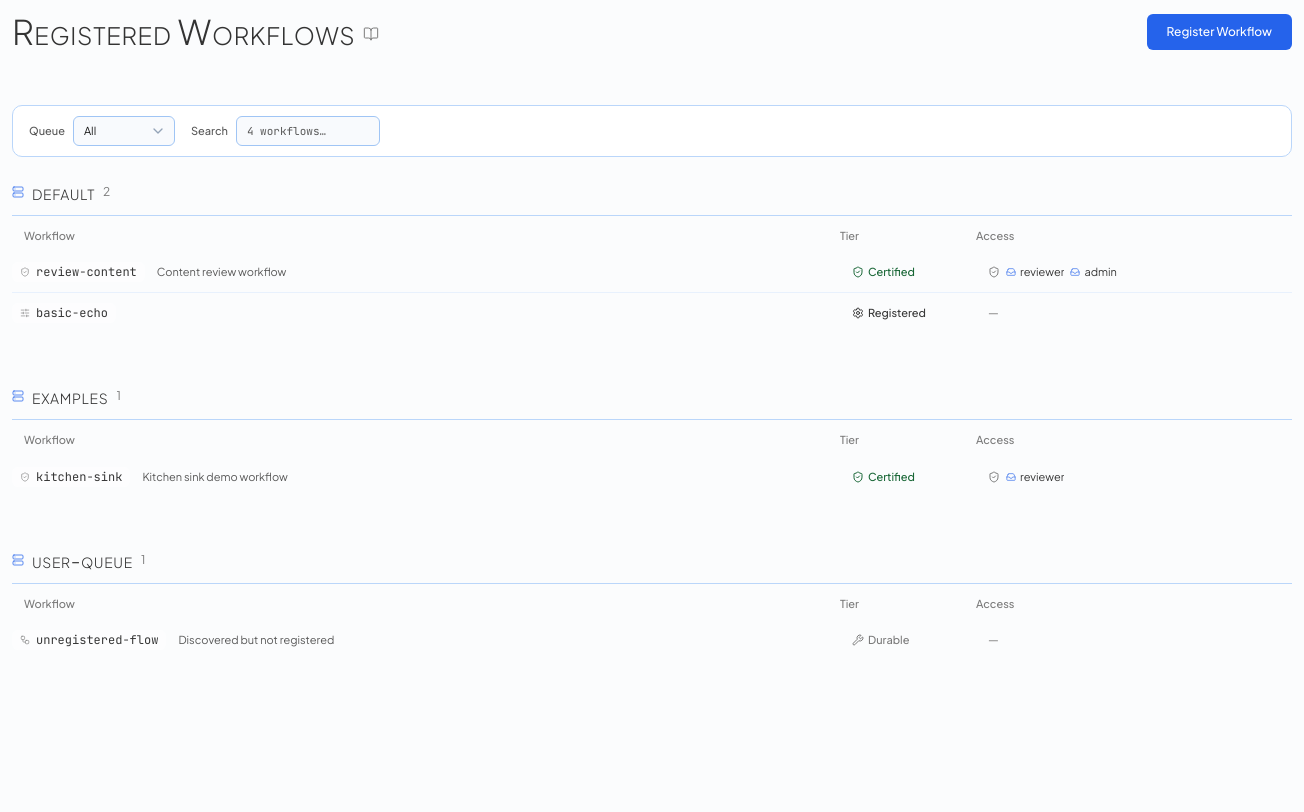
Test case: WorkflowConfigsPage › filters by search text (description)
The width and height of the screenshot is (1304, 812).
In the field with placeholder "4 workflows…": (308, 131) 236,116 -> 380,146, type "demo"
Wait 350 ms
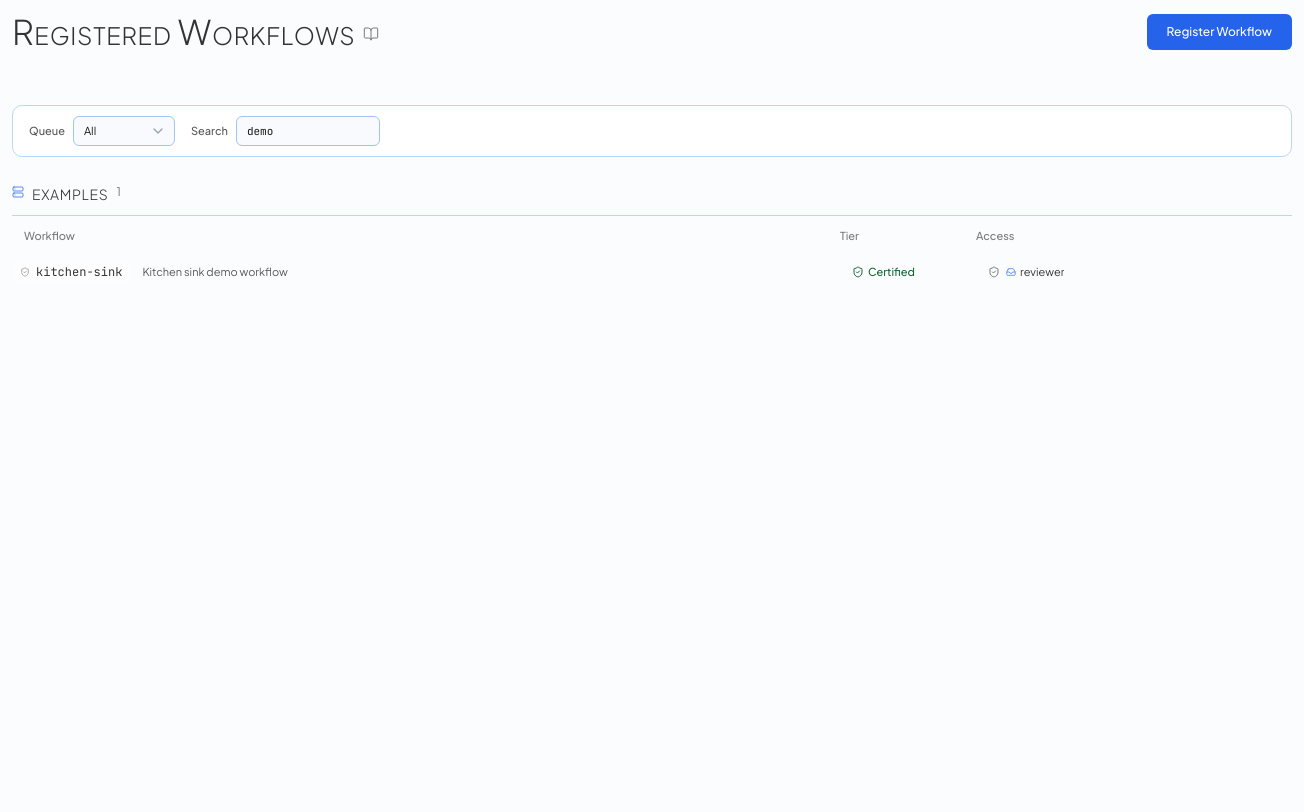
Expected: the text "kitchen-sink" is shown, 36,264 -> 122,280
Expected: the button "review-content" is gone
